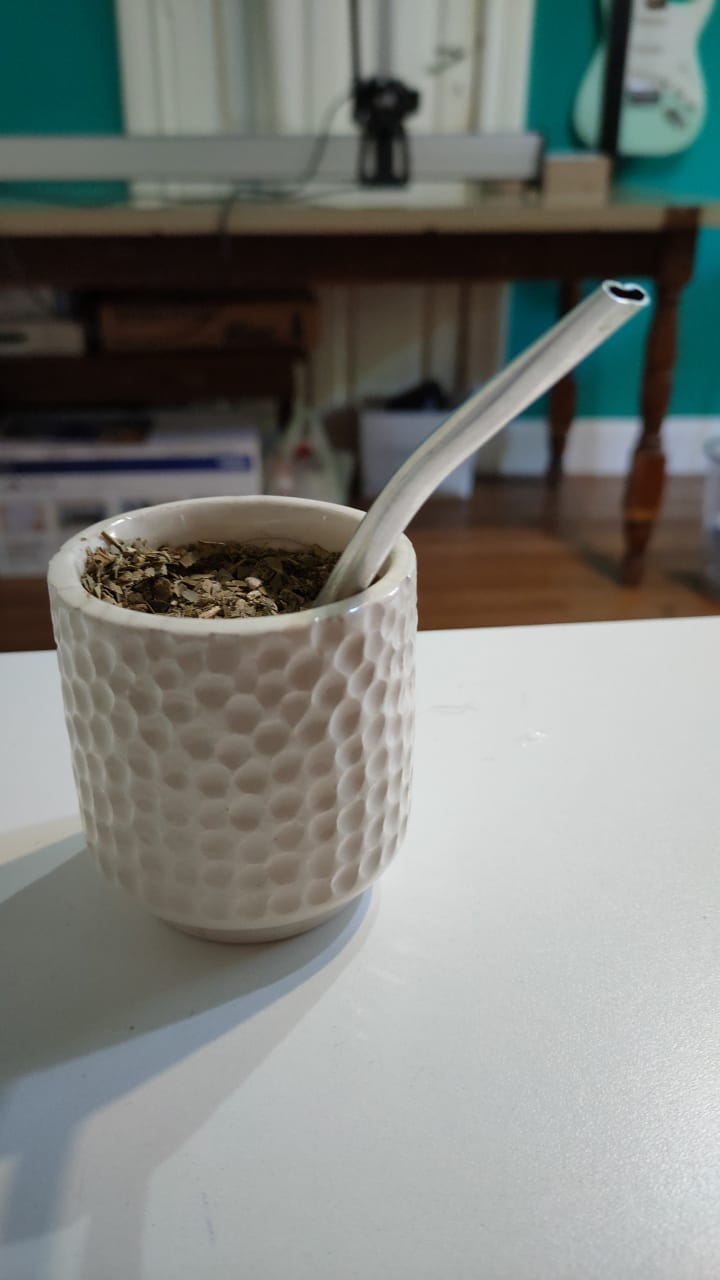mate: (46, 480, 426, 943)
